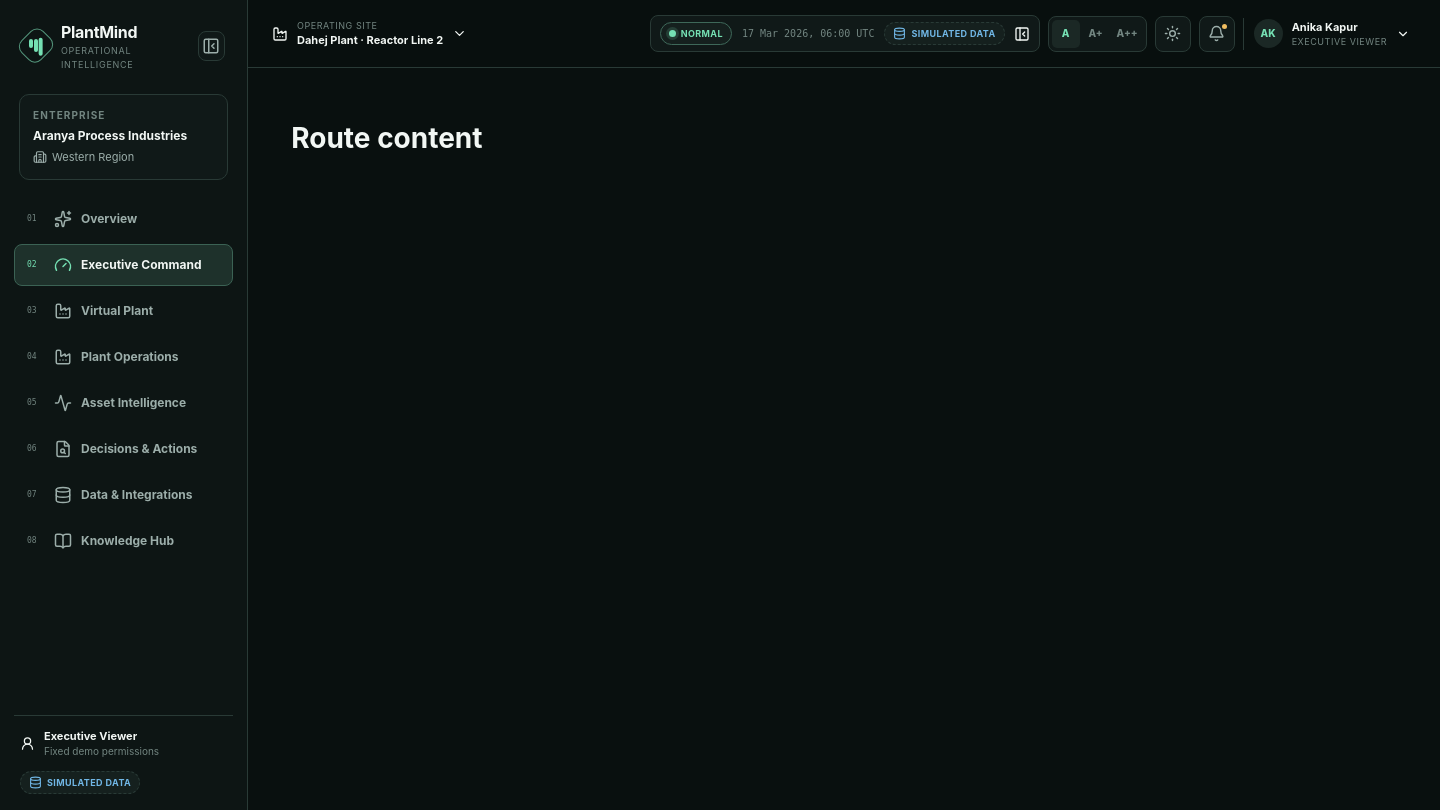
Scenario: application shell › renders enterprise context, fixed permissions, and preview plus operational destinations
The width and height of the screenshot is (1440, 810).
Expected: the text "Aranya Process Industries" is shown, [33,127,214,145]
Expected: the text "Executive Viewer" below "Knowledge Hub" is shown, [44,728,137,742]
Click the button named "Use extra large text size": point(1127, 34) [1112,20,1143,48]
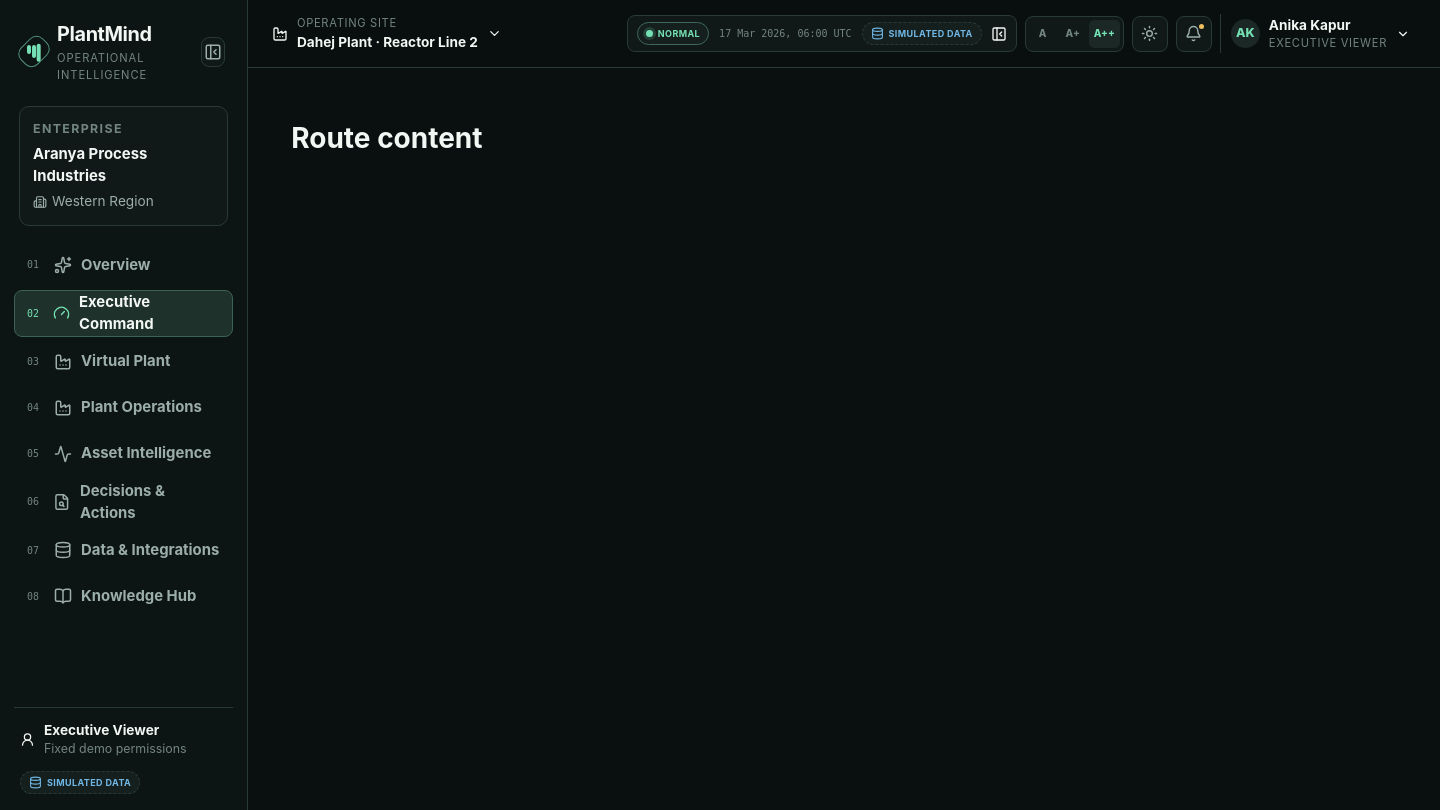
Click the button named "Hide sidebar": point(213, 52) [201,37,225,67]
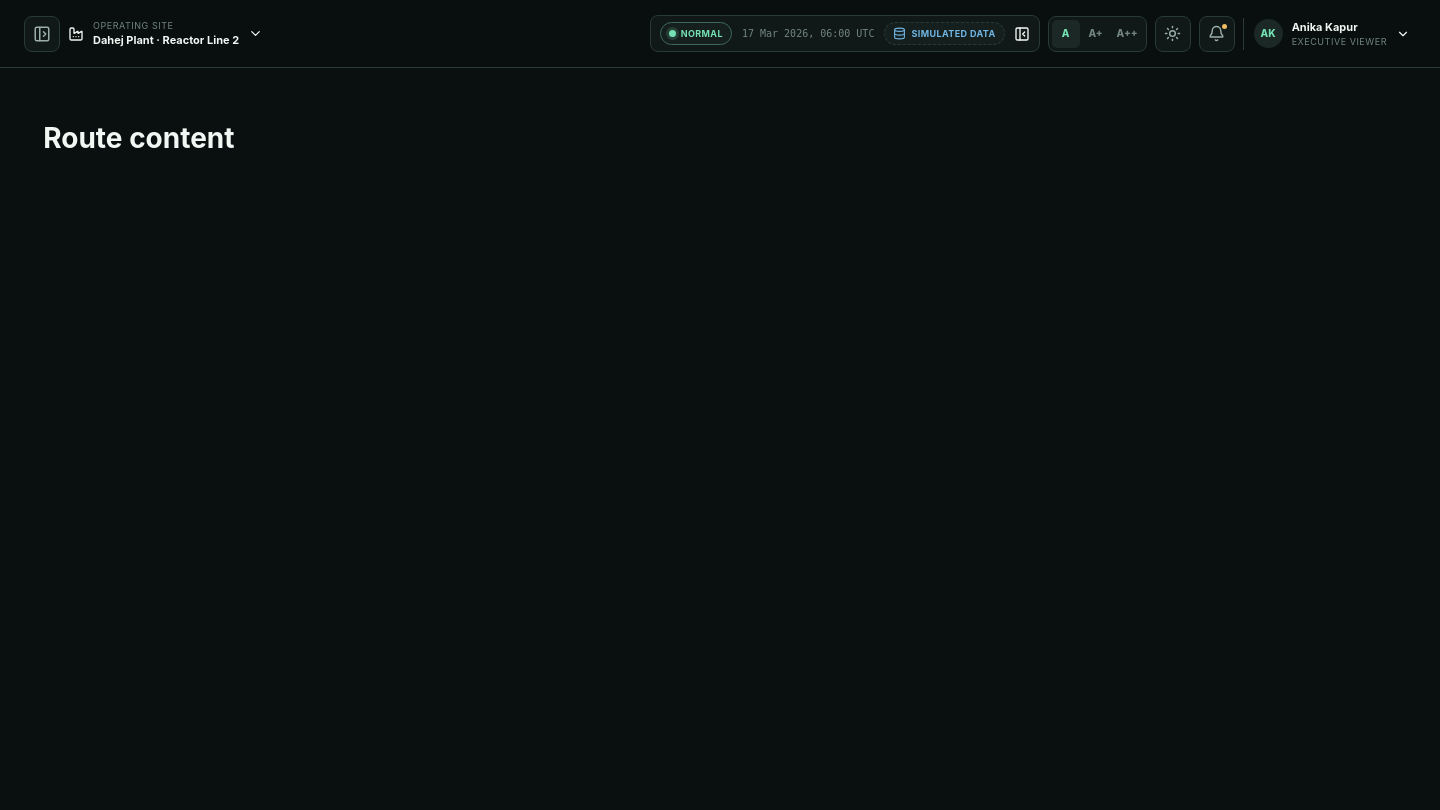
Expected: the heading "Route content" is shown, [43,121,235,155]
Expected: the button named "Show sidebar" is shown, [24,16,60,52]
